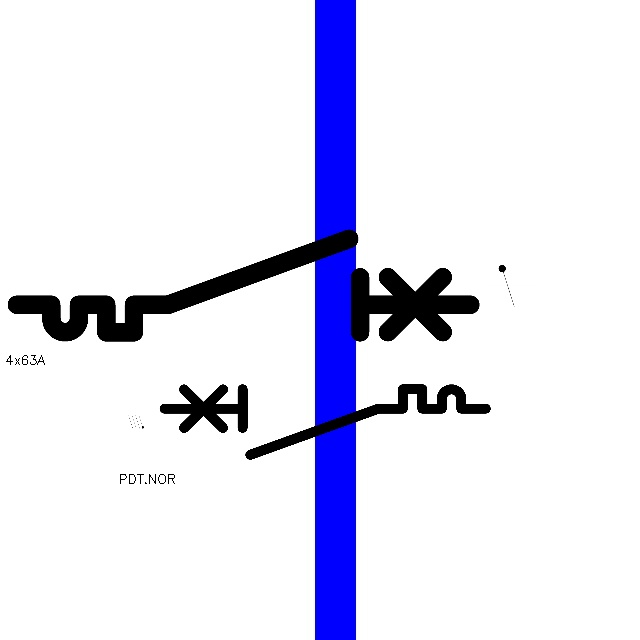interruptor_termomagnetico: (5, 227, 482, 344), (156, 381, 494, 463)
